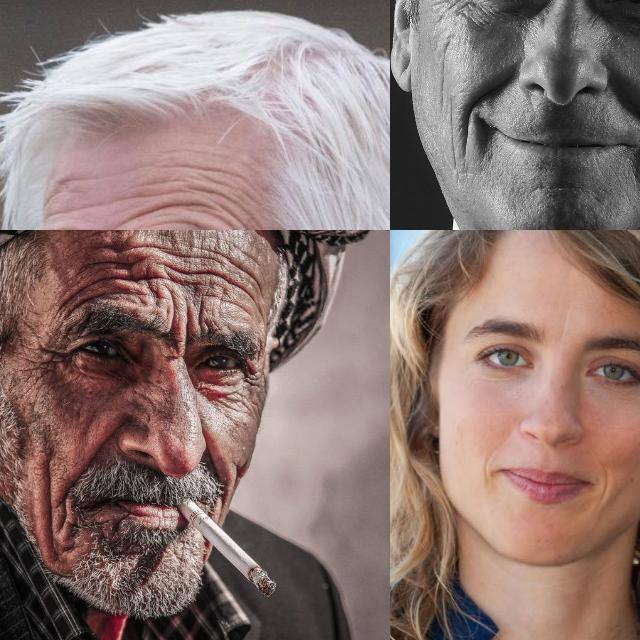bunny_line: (131, 386, 157, 412)
crows_feet: (29, 344, 73, 378), (244, 368, 266, 394), (439, 0, 468, 13)
forehead: (128, 190, 188, 228), (186, 152, 240, 192), (220, 255, 258, 301), (204, 197, 256, 230), (168, 258, 208, 292), (61, 279, 99, 313), (106, 238, 150, 264), (48, 169, 86, 197), (114, 270, 154, 294), (42, 215, 90, 230)
frown_line: (169, 304, 201, 346), (554, 310, 570, 346)
gummy_smile: (81, 424, 113, 464), (460, 94, 480, 150)
masseter: (34, 458, 61, 538), (443, 104, 461, 164), (436, 40, 450, 100)
sad_smile: (54, 482, 76, 522), (598, 464, 608, 514), (481, 454, 492, 486)
